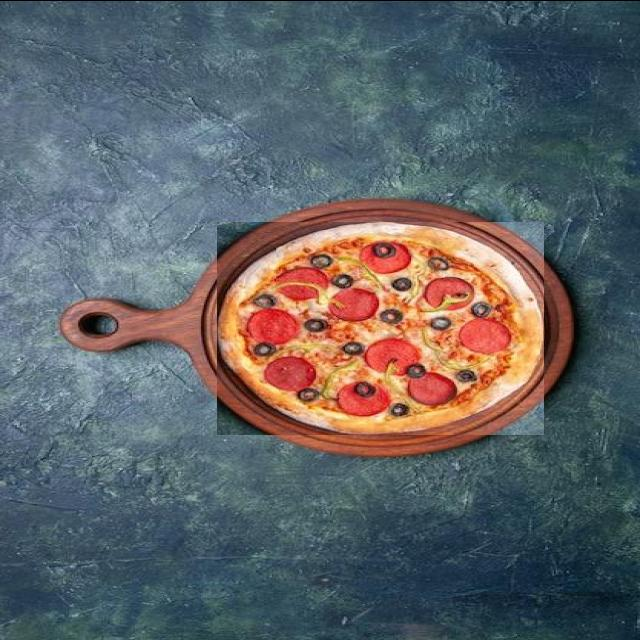olive: (364, 242, 388, 257), (358, 308, 380, 323), (270, 301, 290, 317), (408, 274, 430, 288), (386, 381, 406, 396), (335, 362, 355, 377), (310, 315, 330, 330), (486, 342, 507, 356), (434, 318, 456, 331), (428, 254, 450, 267), (486, 294, 507, 307), (352, 402, 371, 416), (442, 388, 463, 400), (284, 369, 305, 381), (349, 277, 368, 290), (398, 342, 418, 354), (312, 257, 332, 269)
pepperoni: (340, 337, 396, 375), (250, 317, 302, 353), (461, 309, 514, 343), (371, 382, 424, 416), (445, 355, 496, 390), (433, 267, 487, 299), (286, 276, 336, 309), (383, 288, 431, 321), (350, 241, 399, 273), (305, 372, 352, 404)
pizza: (217, 221, 544, 434)
